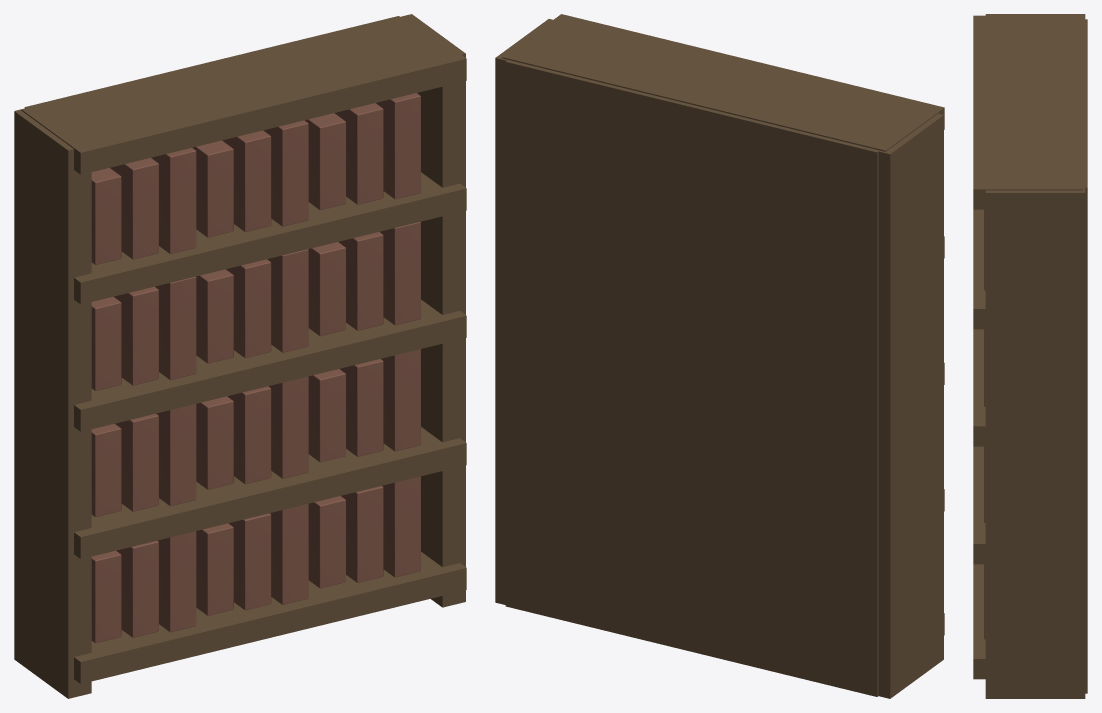
Rendered from bookcase.glb.
The picture shows the model from 3 angles, left to right: view 1: azimuth 30°, elevation 25°; view 2: azimuth 150°, elevation 25°; view 3: azimuth 270°, elevation 25°; orthographic projection. The views are drawn at different scales.
Parts seen in each view (by area): view 1: bookcase stile, bound volume; view 2: bookcase stile; view 3: bookcase stile, bound volume.
Boxes of the visible parts, x1=… form: bookcase stile: x1=14, y1=14, x2=466, y2=698; bound volume: x1=91, y1=93, x2=420, y2=643; bookcase stile: x1=495, y1=14, x2=944, y2=698; bookcase stile: x1=973, y1=14, x2=1087, y2=698; bound volume: x1=984, y1=209, x2=985, y2=639.
Bounding box in the file's own units: 1.7 × 2.24 × 0.46.
